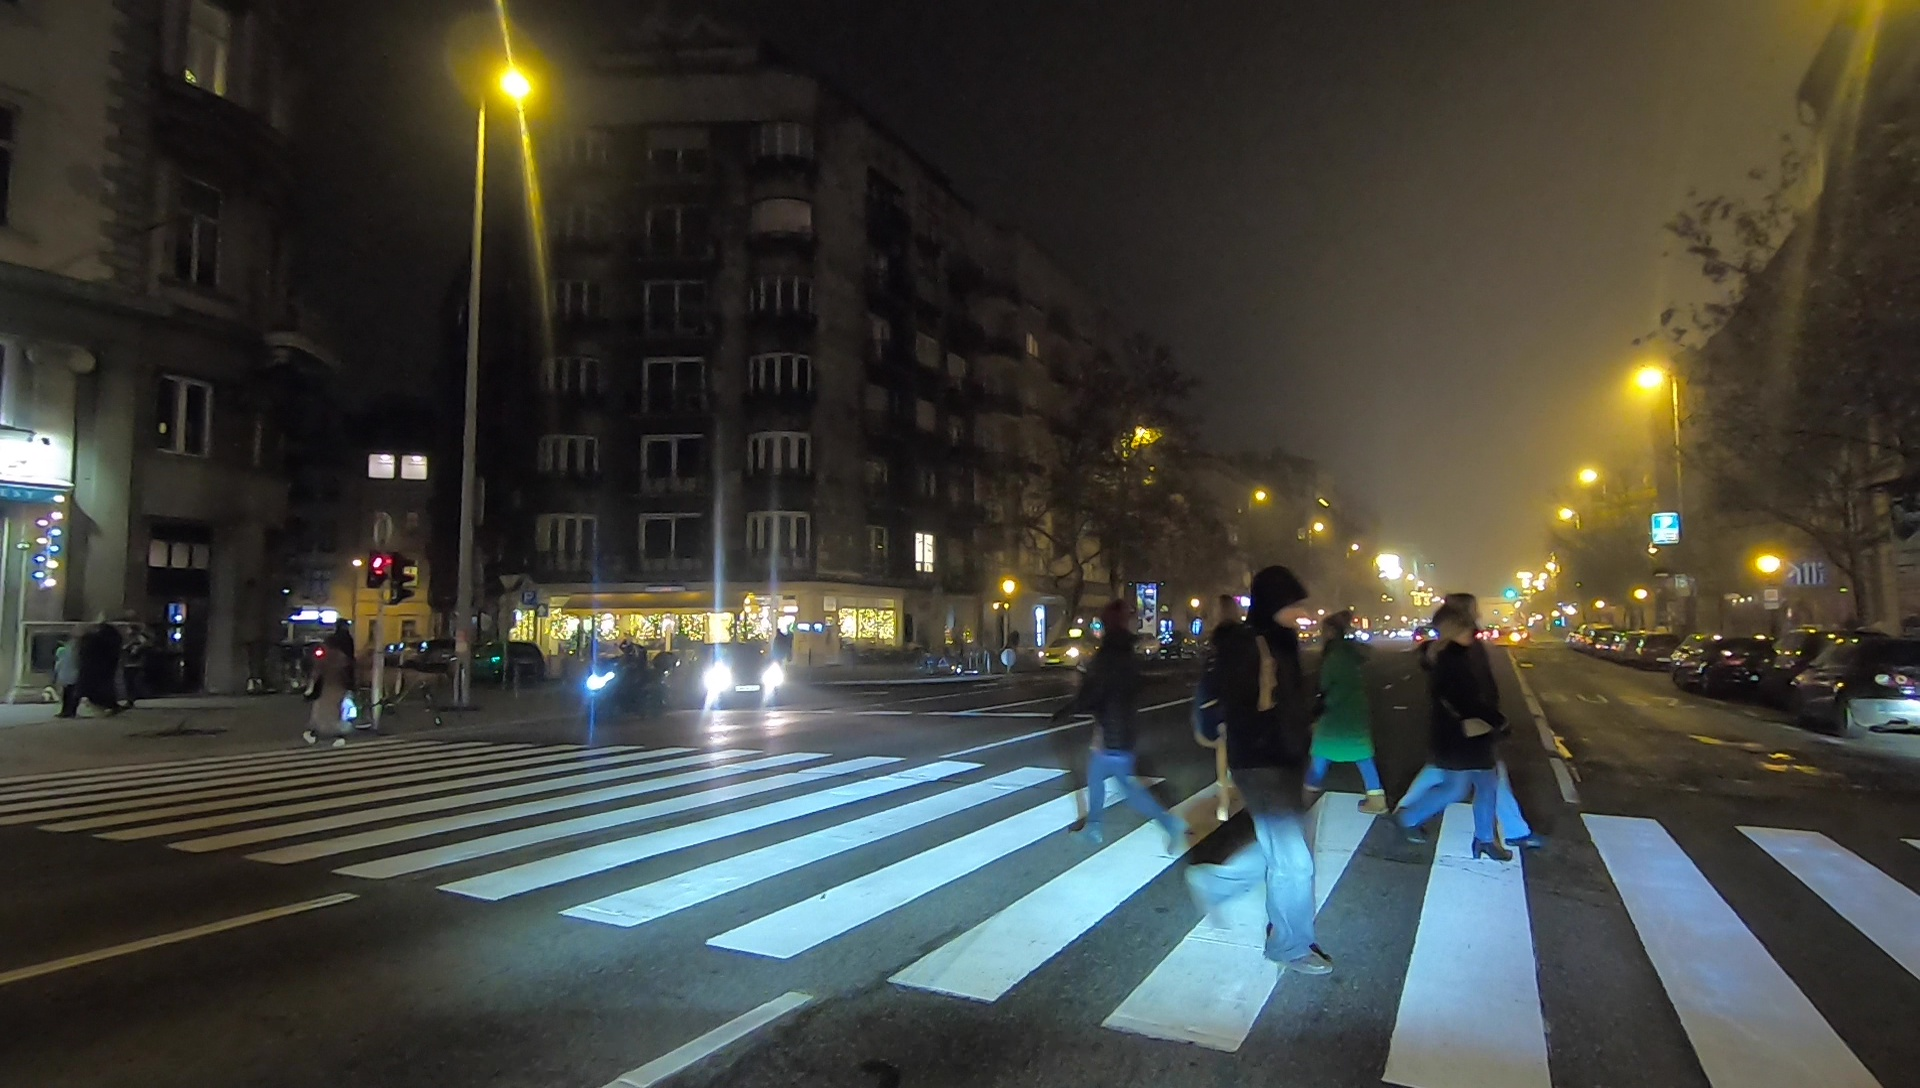person: (1151, 569, 1336, 984), (1399, 582, 1543, 863), (1069, 595, 1189, 861), (1299, 613, 1393, 821), (304, 628, 356, 749), (93, 617, 125, 711), (60, 608, 86, 724), (239, 623, 269, 697)
